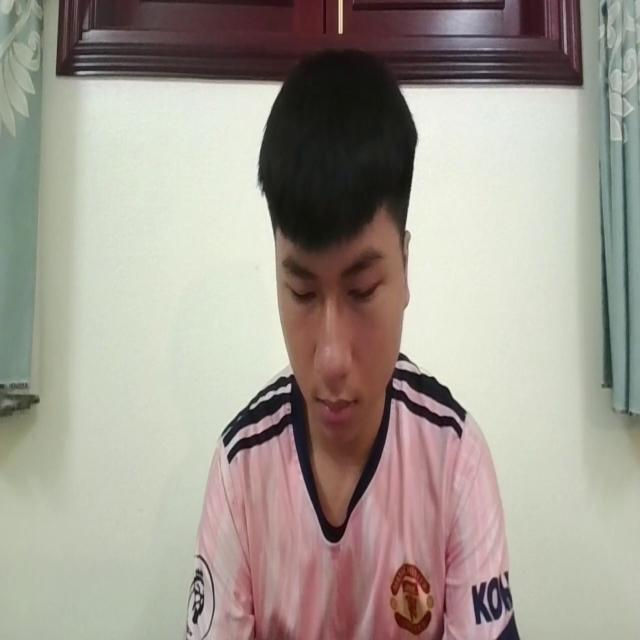student: (189, 50, 518, 640)
